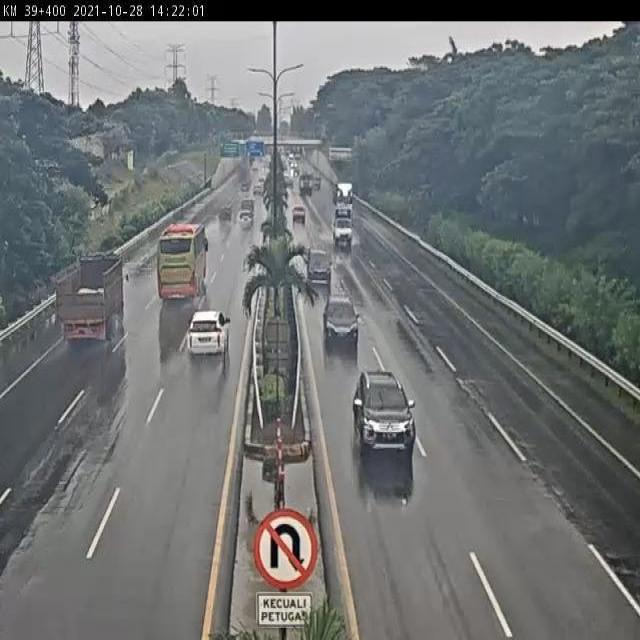big bus: (156, 225, 207, 304)
car: (353, 372, 415, 453), (184, 309, 231, 363), (322, 294, 362, 349), (306, 247, 335, 288)
truck-l-: (55, 253, 125, 355)
truck-s-: (330, 202, 355, 246)
